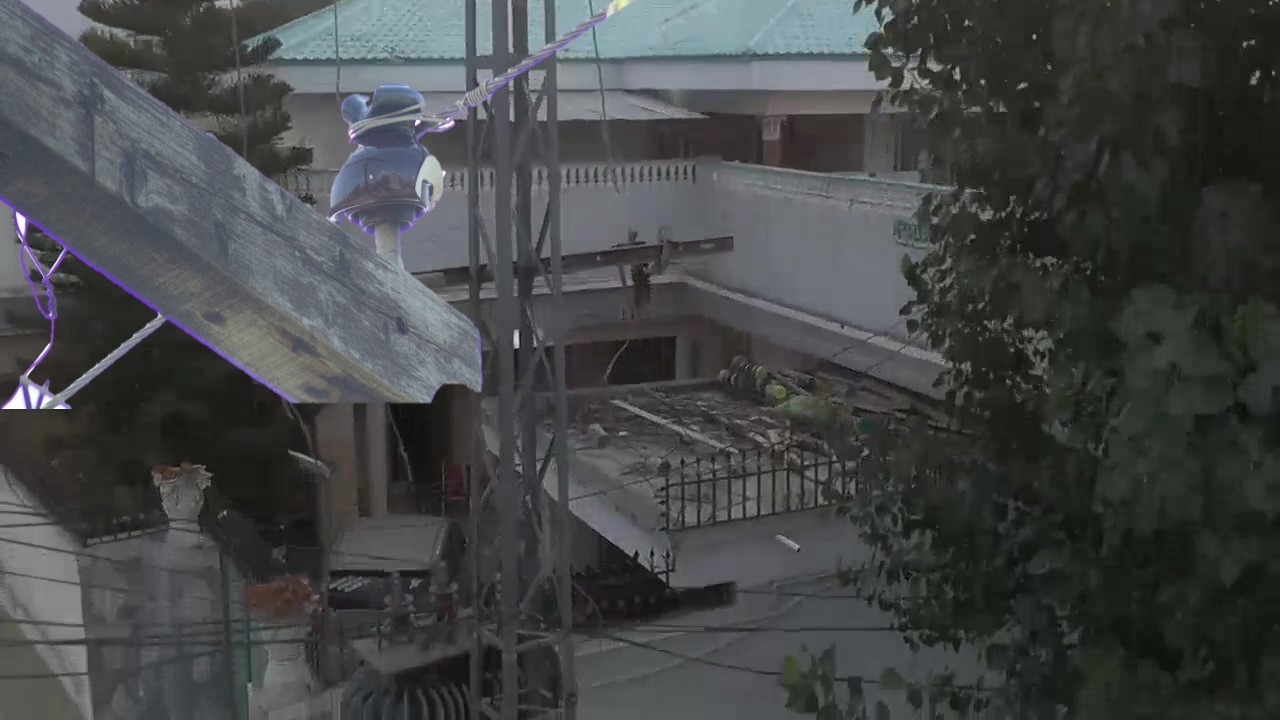defect_pin: (324, 85, 458, 232)
